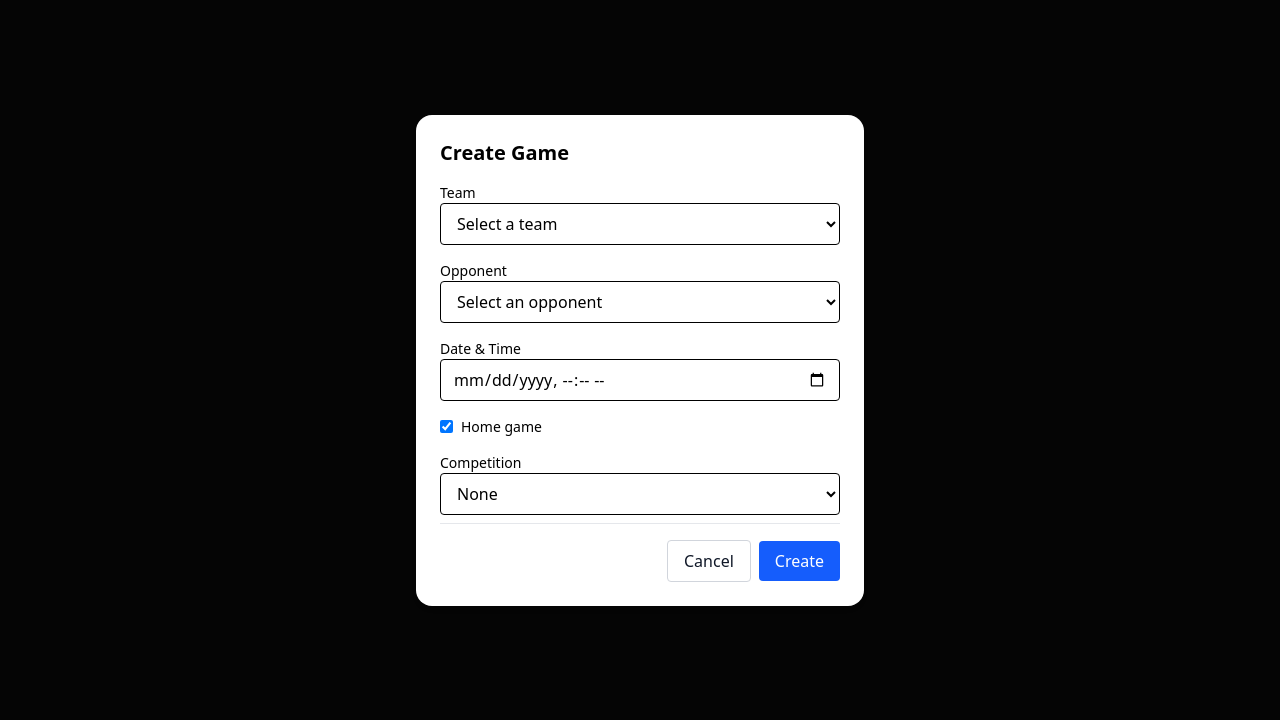
Test: blocks submission and shows a validation message when no team is selected (AC GAME-03.2)
The image size is (1280, 720).
Select "Benfica" in the dropdown labelled "Opponent" at (640, 302), box [440,280,840,322]
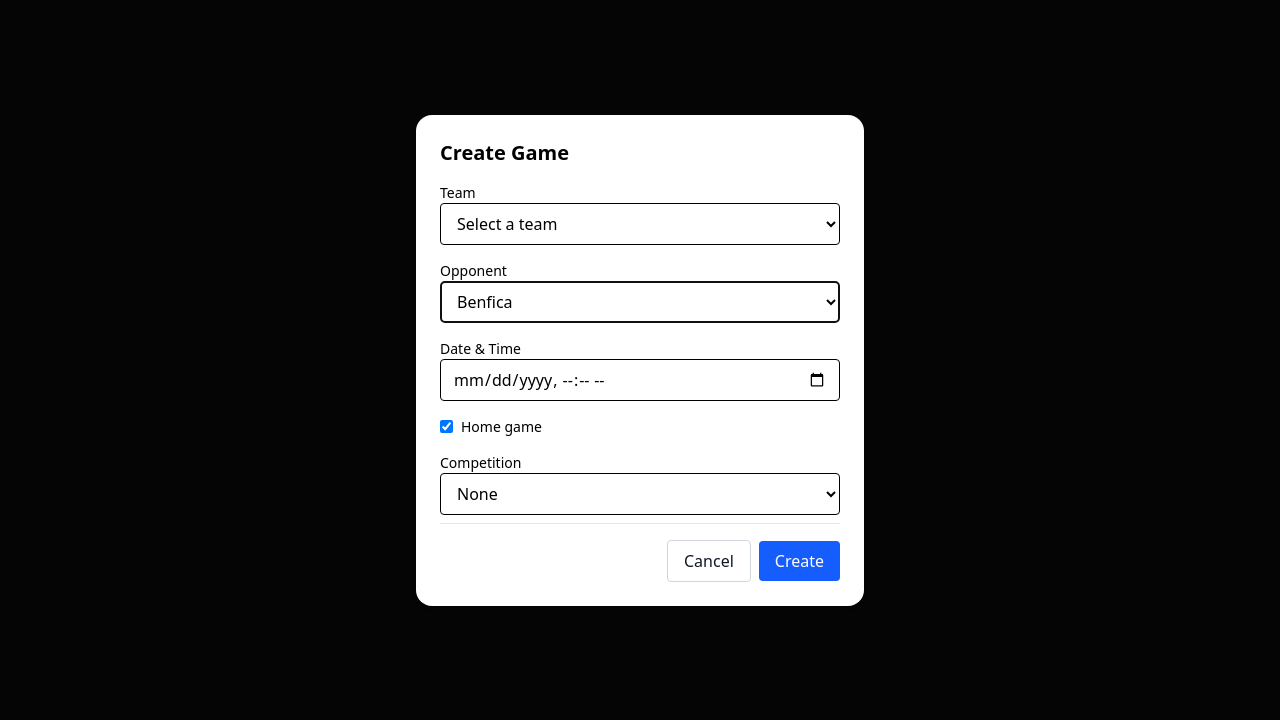
Type "2027-01-01T10:00" into the field named "date".
click(640, 380); type("2027-01-01T10:00")  # box [440,358,840,400]
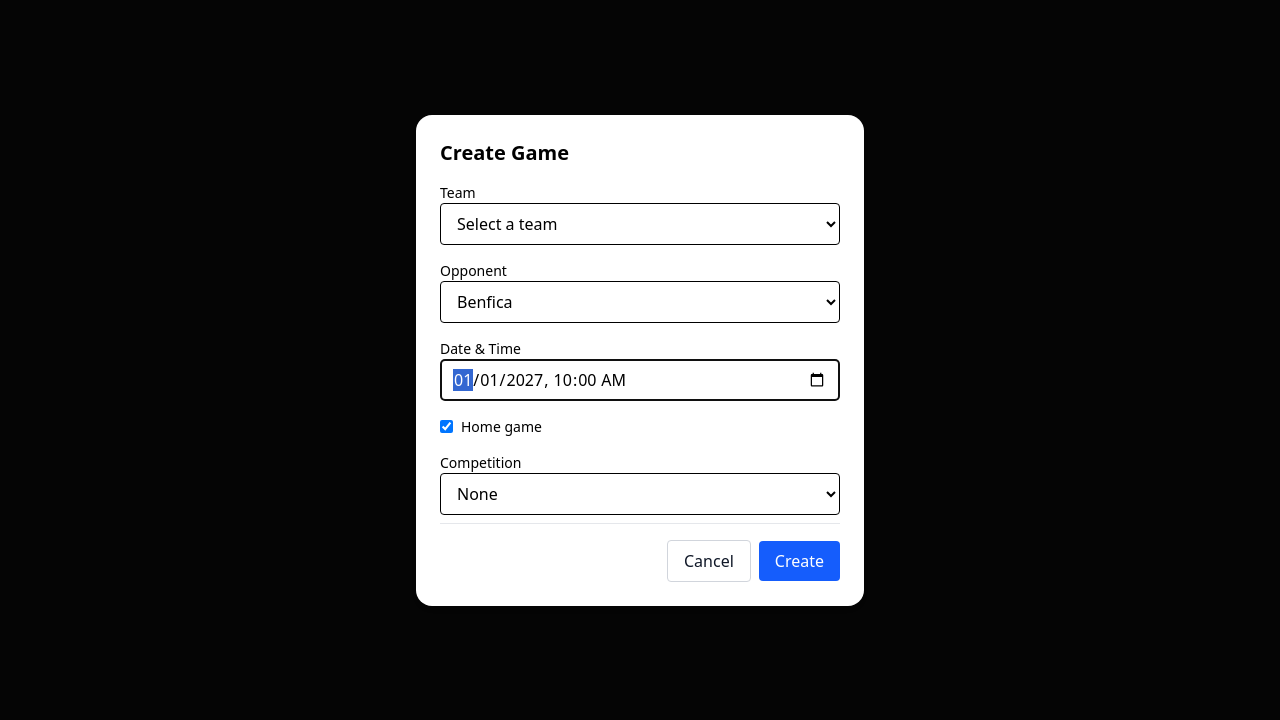
Click the button "Create".
click(799, 560)  # box [759,540,840,580]
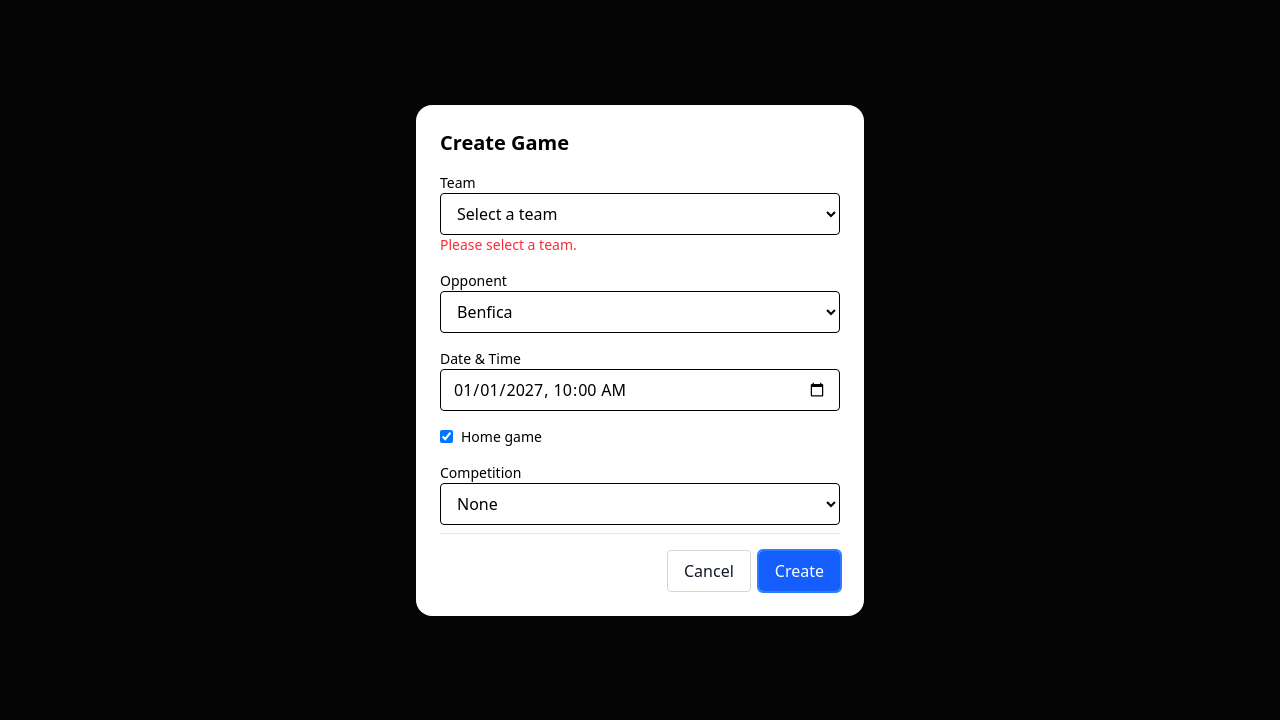
Now the text "Please select a team." is shown, box [440,234,577,254]
